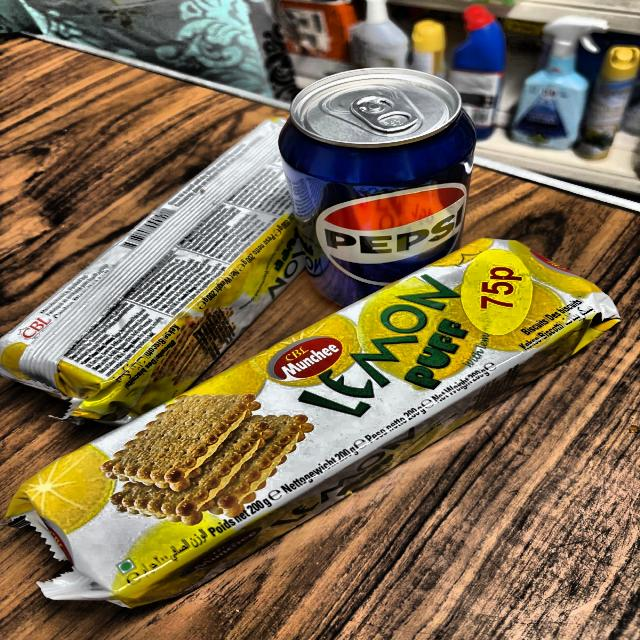lemon puff: (0, 234, 640, 566), (8, 110, 309, 414)
pepsi-can: (288, 58, 496, 296)
